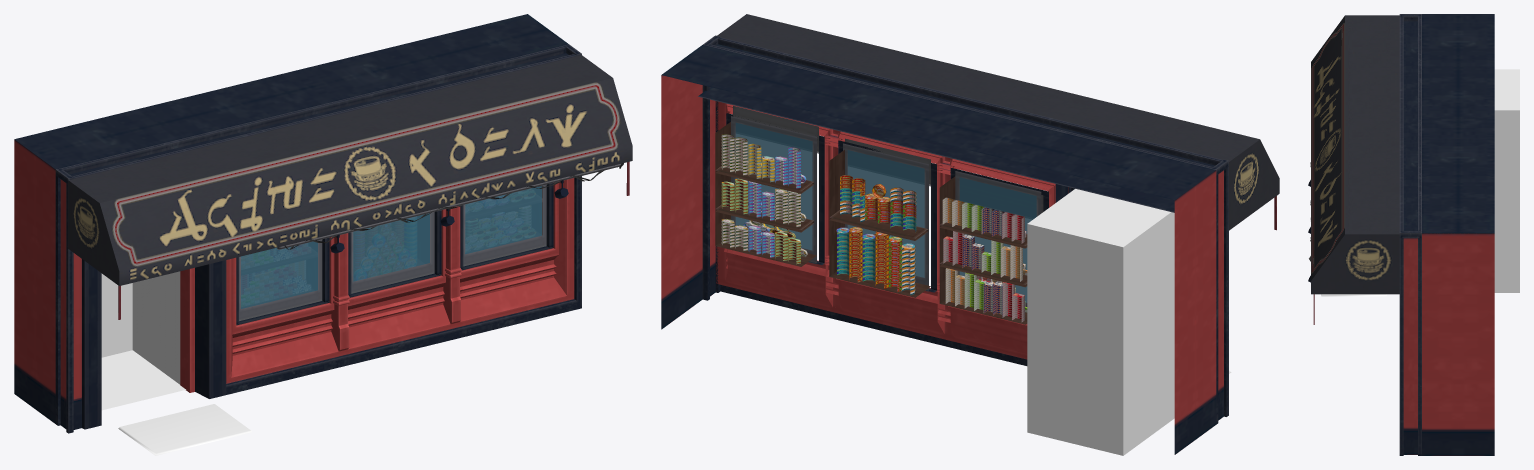
Rendered from objects_un_c01cannedshop01.gltf.
The picture shows the model from 3 angles, left to right: view 1: azimuth 30°, elevation 25°; view 2: azimuth 150°, elevation 25°; view 3: azimuth 270°, elevation 25°; orthographic projection. The views are drawn at different scales.
Visible parts, largest first — view 1: um_objects_un_c01cannedshop01_model_lod0Shape:objects_un_c01 (×5), um_objects_un_c01cannedshop01_model_lod2Shape:objects_un_c01, um_objects_un_c01cannedshop01_model_lod1Shape:objects_un_c01 (×3), nomerge_objects_un_c01cannedshop01_inside01_shape:objects_un, um_objects_un_c01cannedshop01_model_lod0Shape:objects_un_sho; view 2: um_objects_un_c01cannedshop01_model_lod0Shape:objects_un_c01 (×5), nomerge_objects_un_c01cannedshop01_inside01_shape:objects_un, um_objects_un_c01cannedshop01_model_lod2Shape:objects_un_c01, um_objects_un_c01cannedshop01_model_lod1Shape:objects_un_c01 (×2); view 3: um_objects_un_c01cannedshop01_model_lod0Shape:objects_un_c01 (×3), um_objects_un_c01cannedshop01_model_lod2Shape:objects_un_c01, nomerge_objects_un_c01cannedshop01_inside01_shape:objects_un, um_objects_un_c01cannedshop01_model_lod1Shape:objects_un_c01.
Part boxes in pixels (box(x1,y1,x2,y2)): um_objects_un_c01cannedshop01_model_lod0Shape:objects_un_c01 (×5): box(14, 14, 632, 433); um_objects_un_c01cannedshop01_model_lod2Shape:objects_un_c01: box(14, 14, 566, 428); um_objects_un_c01cannedshop01_model_lod1Shape:objects_un_c01 (×3): box(68, 170, 604, 383); nomerge_objects_un_c01cannedshop01_inside01_shape:objects_un: box(101, 271, 185, 410); um_objects_un_c01cannedshop01_model_lod0Shape:objects_un_sho: box(118, 404, 252, 455); um_objects_un_c01cannedshop01_model_lod0Shape:objects_un_c01 (×5): box(661, 14, 1279, 454); nomerge_objects_un_c01cannedshop01_inside01_shape:objects_un: box(1027, 189, 1174, 455); um_objects_un_c01cannedshop01_model_lod2Shape:objects_un_c01: box(661, 45, 1216, 423); um_objects_un_c01cannedshop01_model_lod1Shape:objects_un_c01 (×2): box(736, 123, 1279, 302); um_objects_un_c01cannedshop01_model_lod0Shape:objects_un_c01 (×3): box(1309, 14, 1494, 455); um_objects_un_c01cannedshop01_model_lod2Shape:objects_un_c01: box(1422, 14, 1494, 429); nomerge_objects_un_c01cannedshop01_inside01_shape:objects_un: box(1494, 69, 1519, 292); um_objects_un_c01cannedshop01_model_lod1Shape:objects_un_c01: box(1311, 234, 1399, 294).
Size of what is drawn, in the model's own units: 7 by 3.32 by 2.86.
8 materials, 6 textured.
